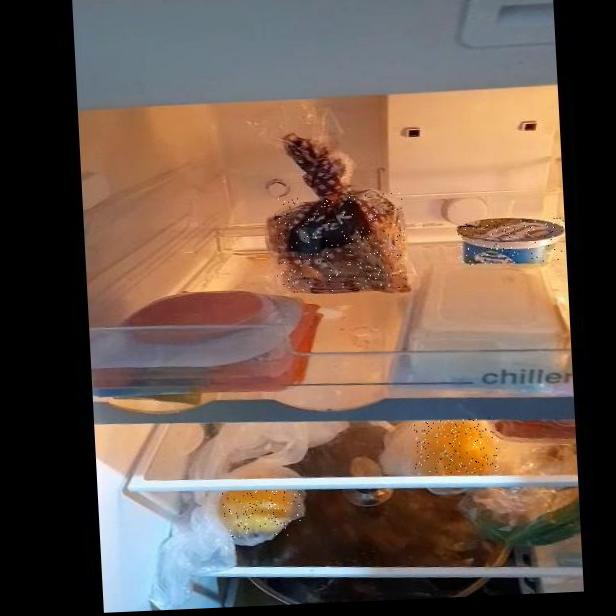bread: (273, 193, 408, 293)
cheese: (410, 262, 564, 351)
lemon: (412, 417, 502, 476), (222, 489, 302, 538)
yoghurt: (456, 217, 566, 268)
